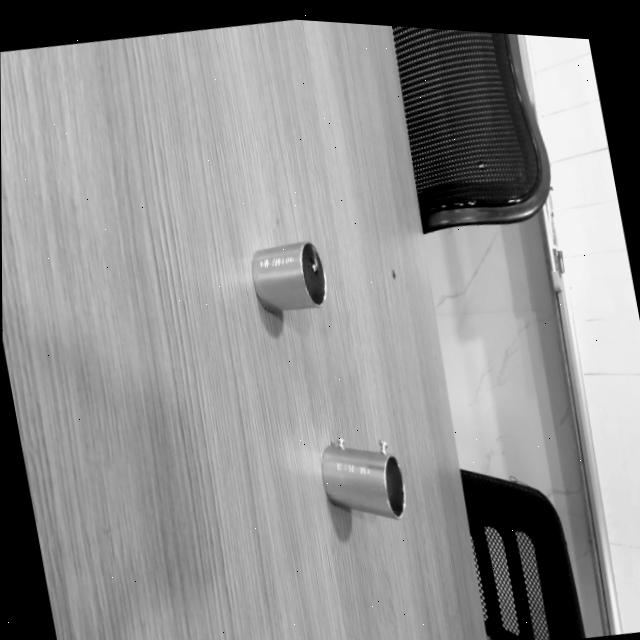Co_Lon: (318, 439, 406, 525)
Co_Nho: (247, 239, 328, 316)
